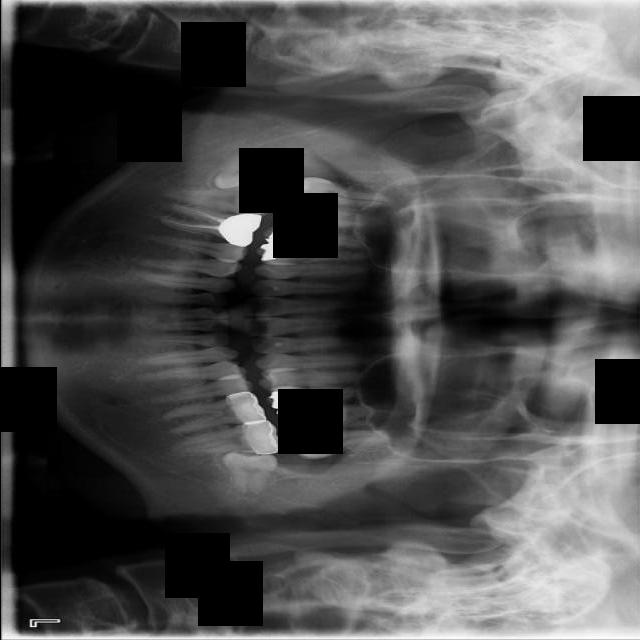52: (273, 392, 328, 444), (222, 382, 269, 433), (240, 417, 280, 458), (217, 210, 260, 248), (273, 201, 317, 232), (253, 242, 300, 268), (266, 386, 309, 410), (260, 225, 300, 248)
73: (158, 202, 237, 240)
BioHorizons Implant: (286, 426, 392, 461)
Biomet 3i Implant: (221, 452, 277, 498)
Blue Sky Bio Implant: (181, 421, 281, 454)
Caries: (278, 173, 393, 214)
Implant: (166, 182, 274, 218)
Keystone Dental Implant: (214, 148, 274, 192)
